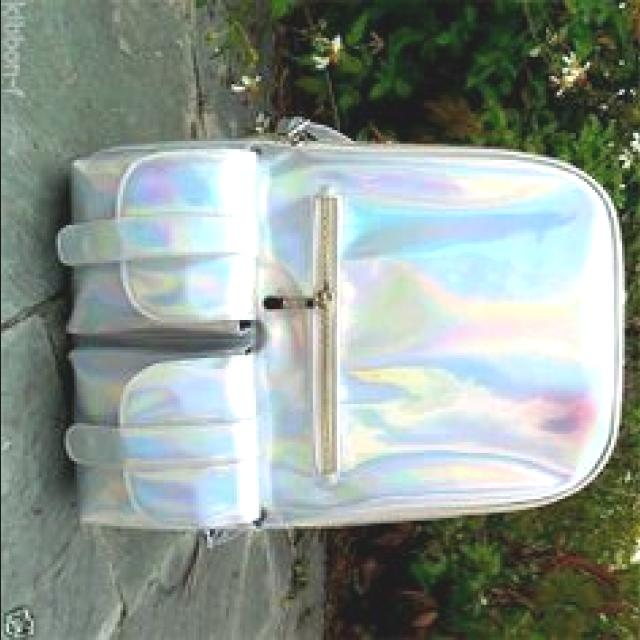backpack: (58, 118, 628, 541)
